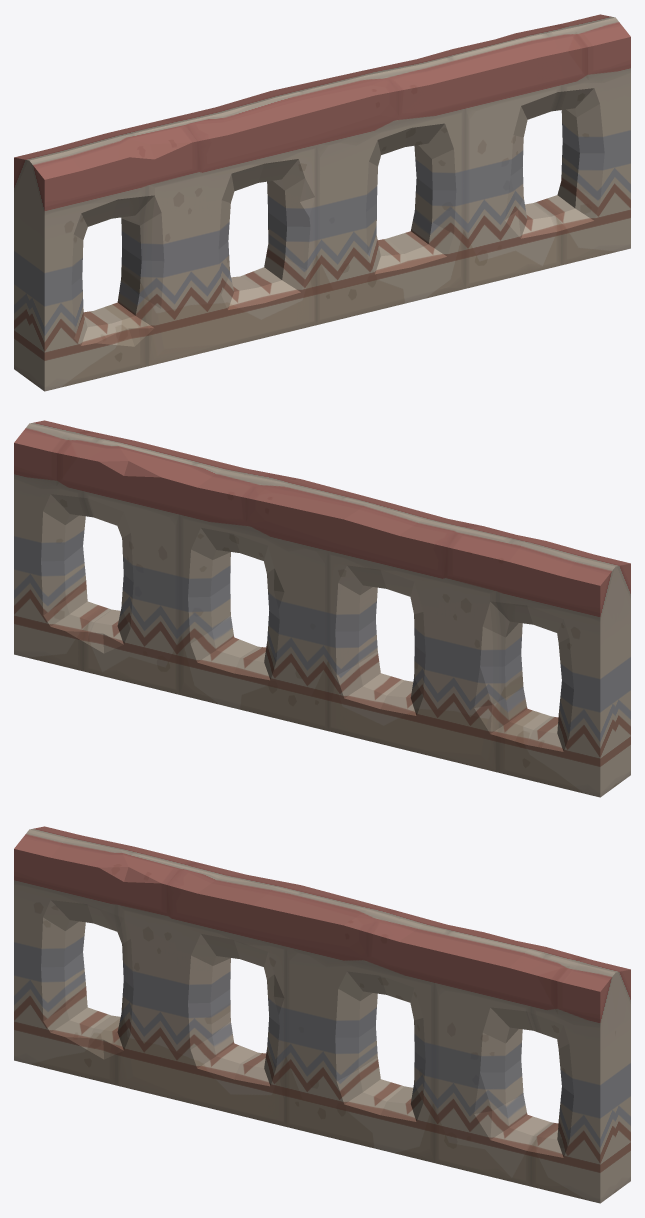
File: SM_Bld_Wall_Balcony_03.fbx
The picture shows the model from 3 angles, top to bottom: view 1: azimuth 30°, elevation 25°; view 2: azimuth 150°, elevation 25°; view 3: azimuth 330°, elevation 25°; orthographic projection.
Visible parts, largest first — view 1: SM_Bld_Wall_Balcony_03; view 2: SM_Bld_Wall_Balcony_03; view 3: SM_Bld_Wall_Balcony_03.
Part boxes in pixels (bbox=[...]): SM_Bld_Wall_Balcony_03: bbox=[14, 14, 630, 391]; SM_Bld_Wall_Balcony_03: bbox=[14, 420, 630, 797]; SM_Bld_Wall_Balcony_03: bbox=[14, 826, 630, 1203].
Size of the model in its own units: 250 by 90.66 by 22.63.
